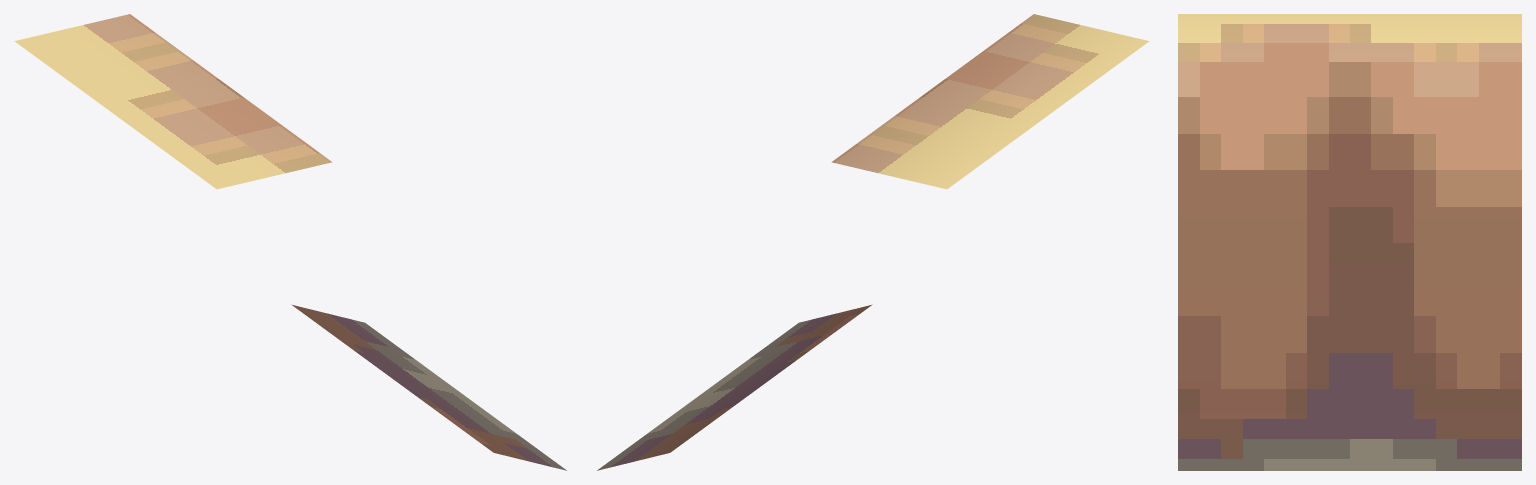
3 views of the same model, side by side, from view 1: azimuth 30°, elevation 25°; view 2: azimuth 150°, elevation 25°; view 3: azimuth 270°, elevation 25° (orthographic). The views are drawn at different scales.
Bounding box in the file's own units: 1 × 1 × 1.
2 materials, 2 textured.
